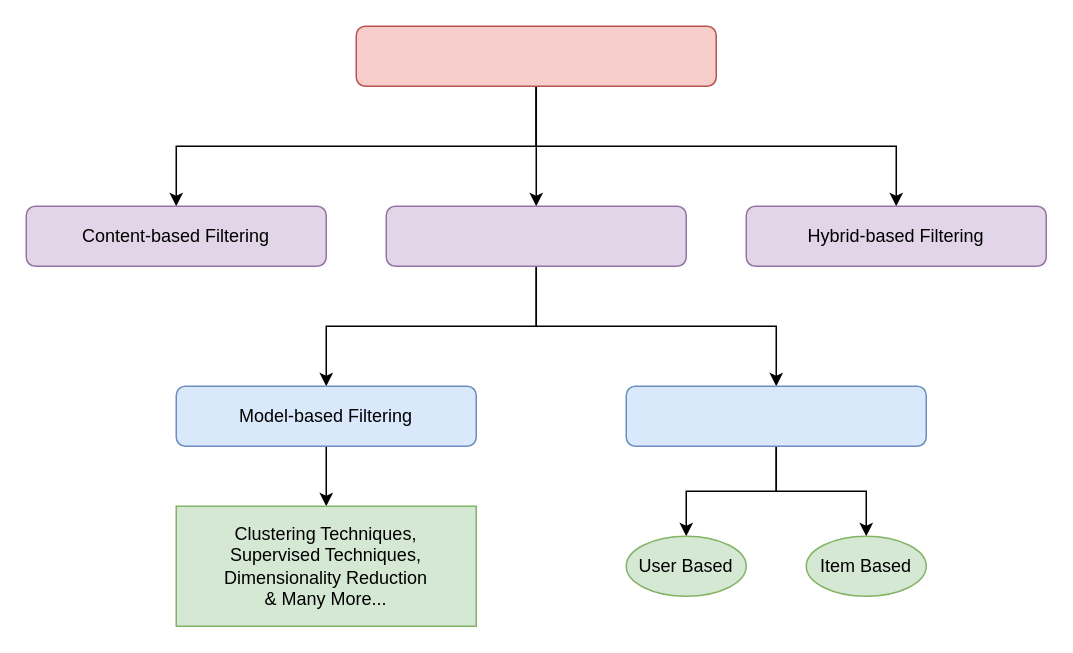
The diagram is 1073 pixels wide and 653 high, and some of its shapes have lost their labels. Here are the shapes that lost their labels. From the top down, the centre of each, then its label:
At (535,55): "Recommeder System".
At (535,235): "Collaborative-based Filtering".
At (775,415): "Memory-based Filtering".
